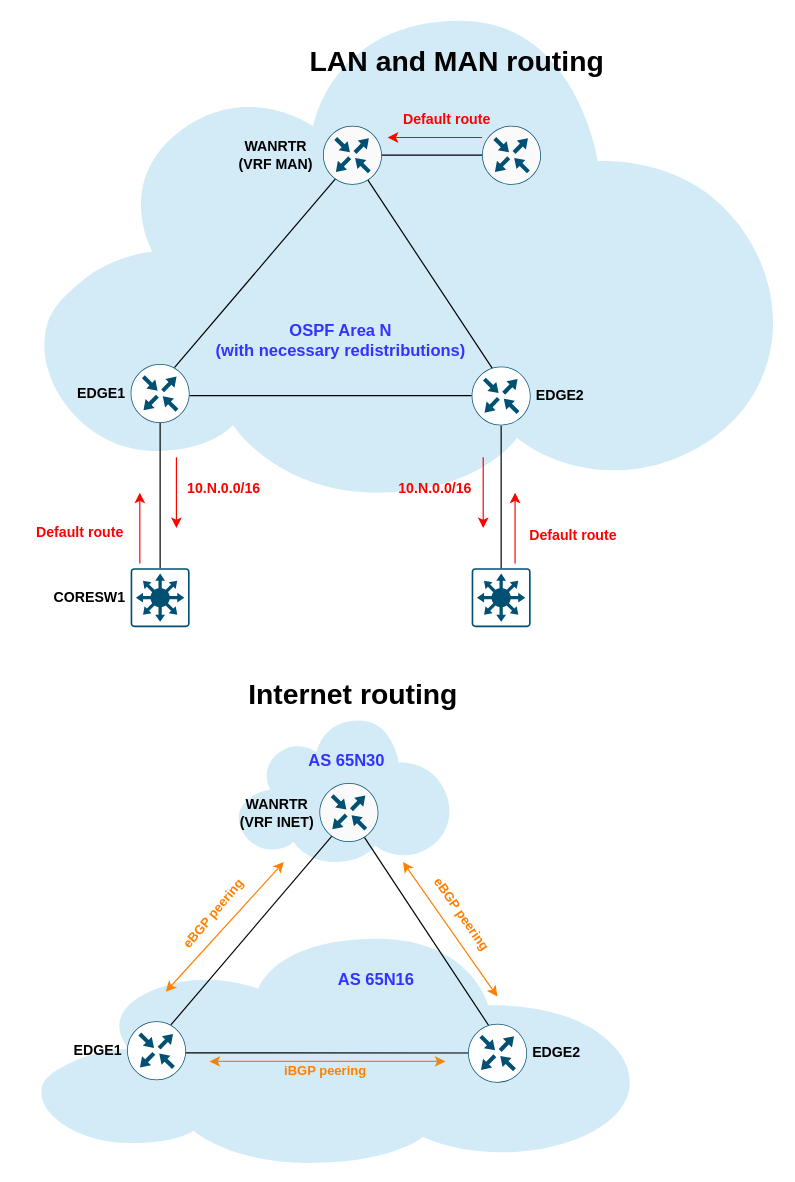
Some shapes in this 795 by 1182 pixel diagram are drawn without their labels. Each missing label, with the centre of its shape:
CORESW2: point 500,597
REMFW: point 511,154
